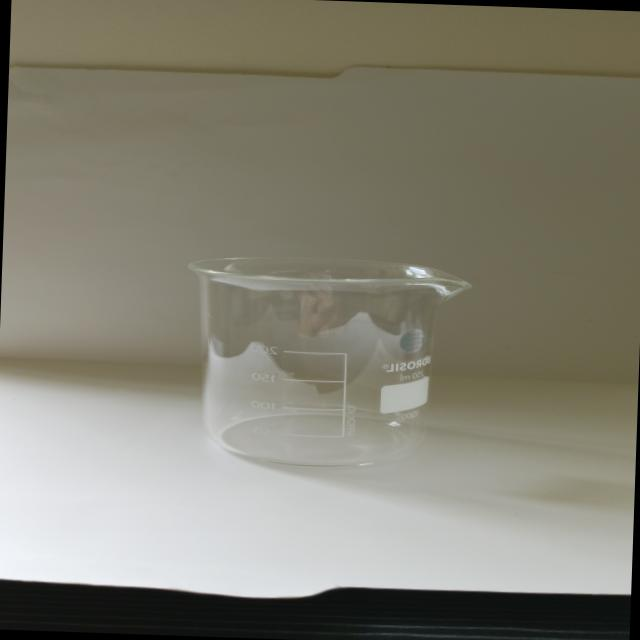beaker: (174, 246, 479, 476)
